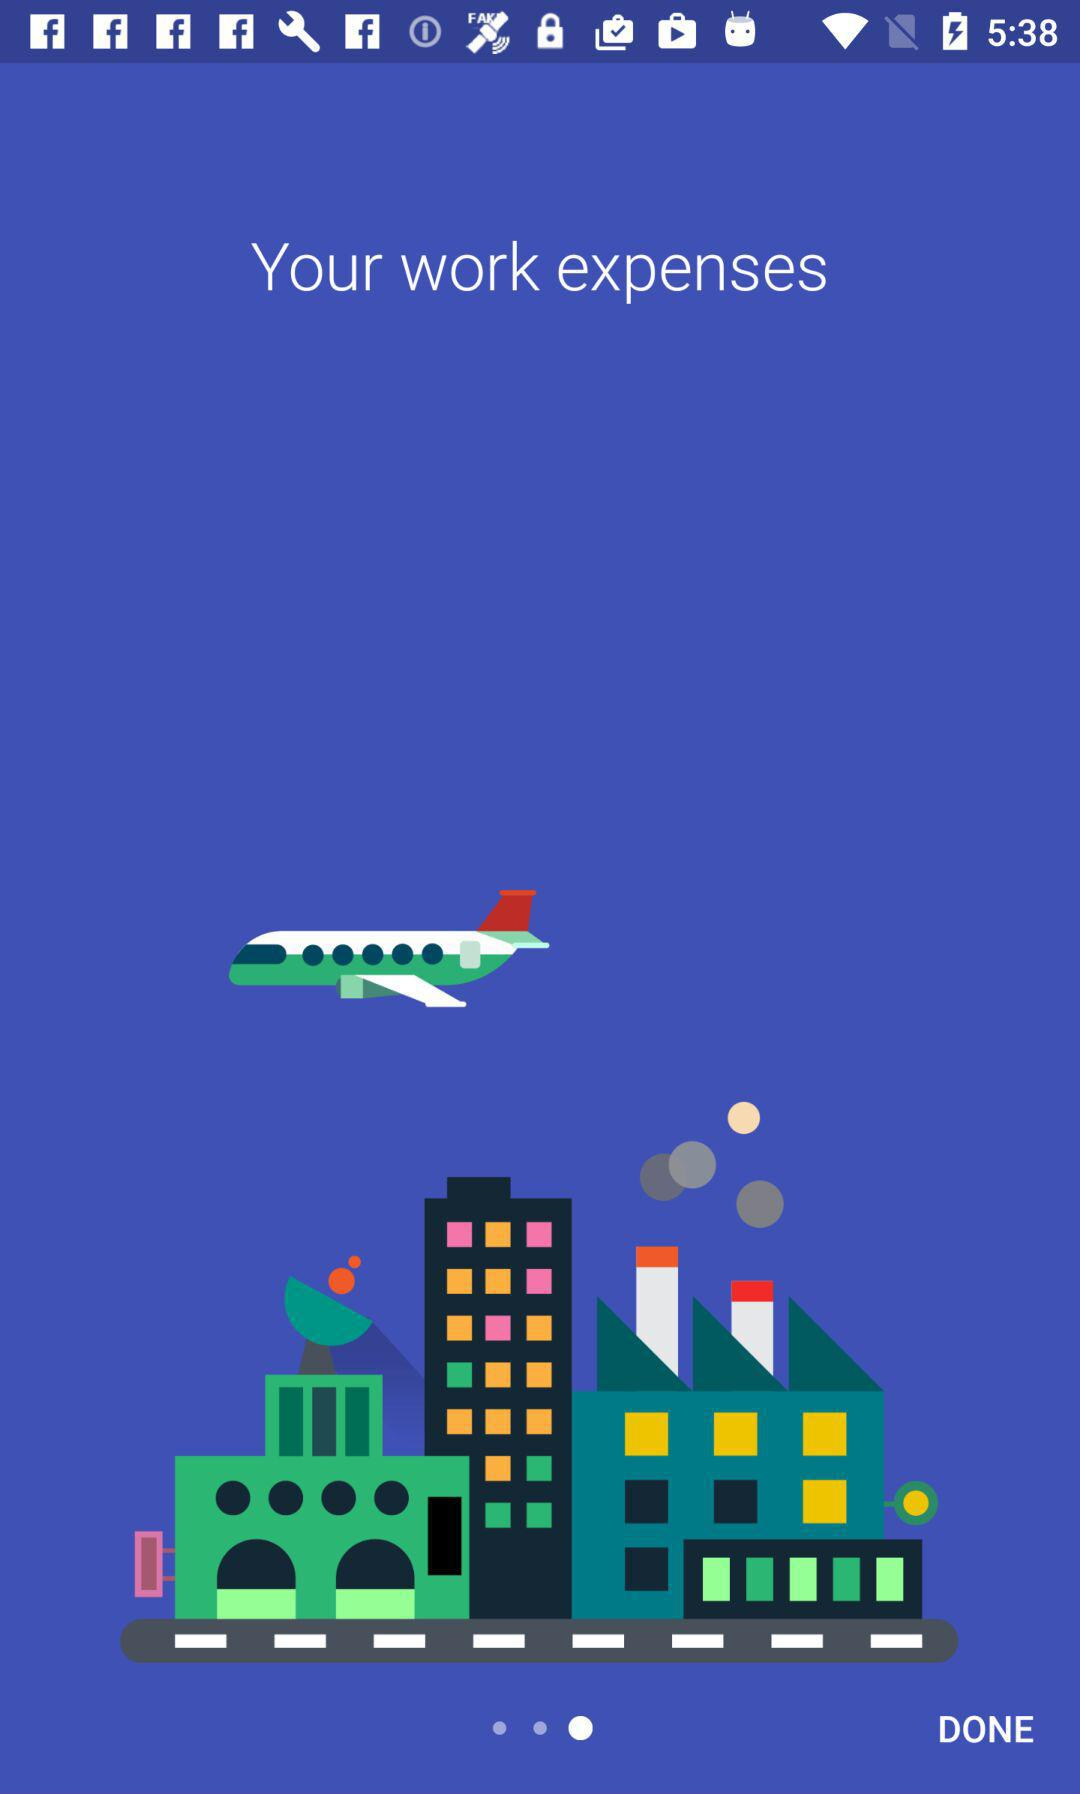Image: (120, 1099, 963, 1665), (228, 889, 551, 1010)
PageIndicator: (491, 1715, 594, 1743)
Text: (249, 241, 829, 306), (938, 1715, 1035, 1745)
UpperTaskBar: (1, 1, 1080, 64)
